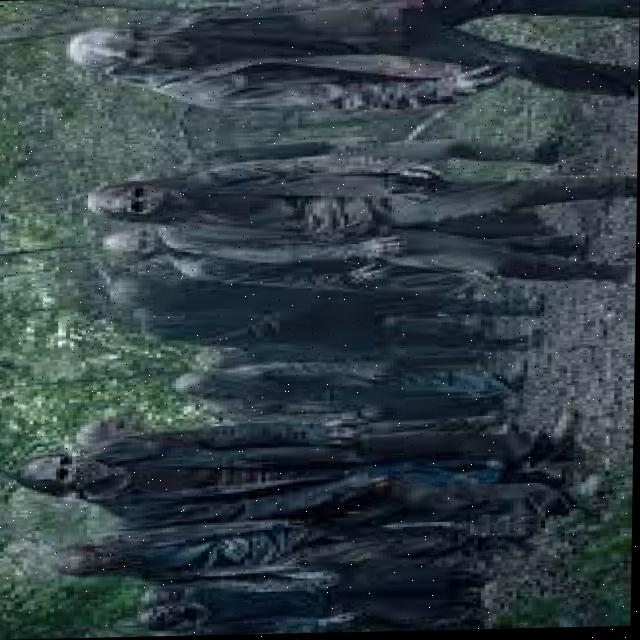Zombie: (86, 175, 204, 227), (17, 445, 121, 498), (72, 28, 197, 71), (50, 541, 149, 582), (109, 269, 195, 314), (77, 412, 156, 455), (106, 227, 178, 261), (175, 372, 252, 403), (141, 603, 211, 631), (131, 162, 200, 185), (203, 354, 267, 373), (140, 587, 193, 608)
